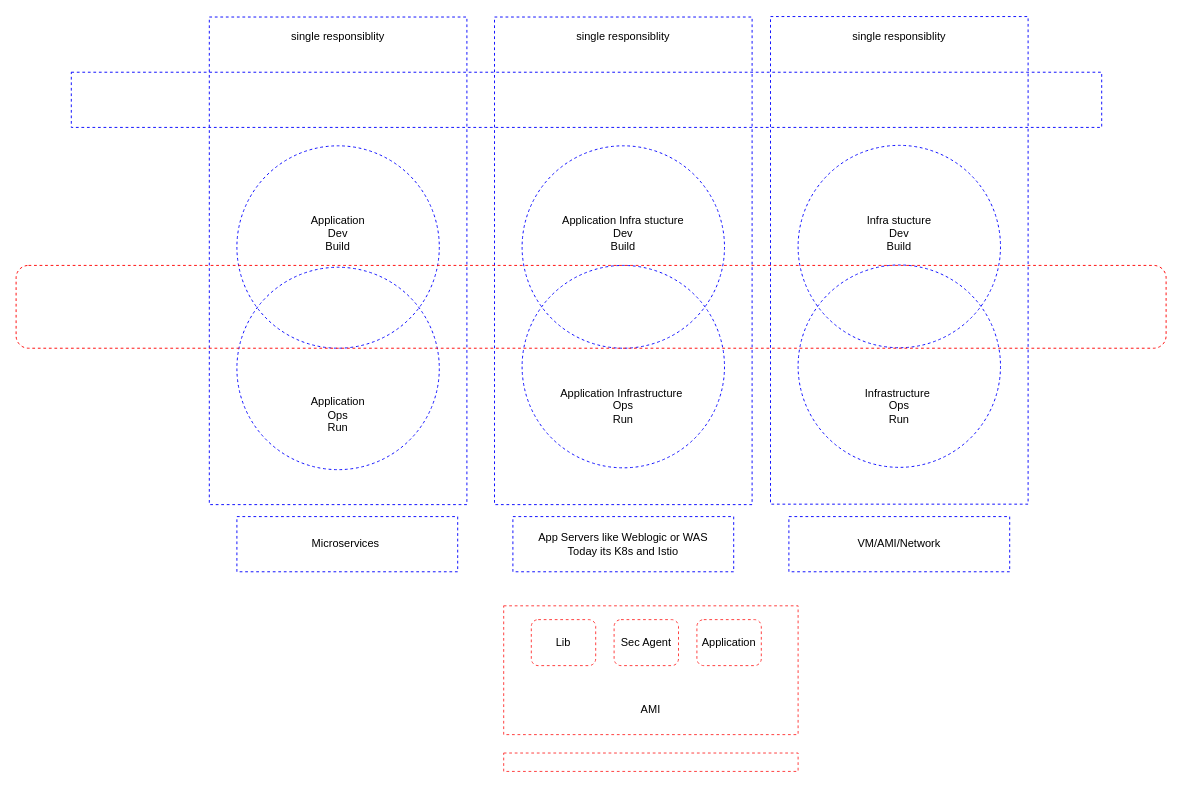
The diagram is 1182 pixels wide and 788 high, and some of its shapes have lost their labels. Here are the shapes that lost their labels. From the top down, the centre of each, then its label:
At (x=586, y=99): "SEcurity".
At (x=650, y=761): "AWS".
